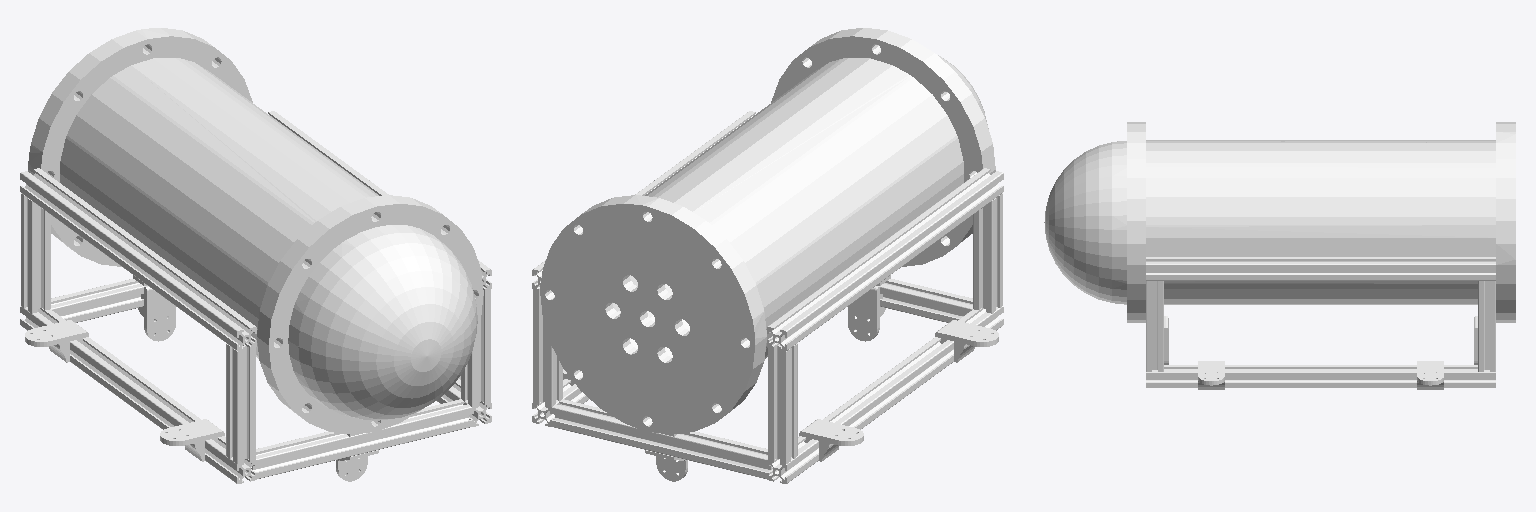
The robot description file, URDF, robot "URDF_Simple_Assembly":
<?xml version="1.0" encoding="utf-8"?>
<!-- This URDF was automatically created by SolidWorks to URDF Exporter! Originally created by [author] ([email redacted]) 
     Commit Version: 1.6.0-4-g7f85cfe  Build Version: 1.6.7995.38578
     For more information, please see http://wiki.ros.org/sw_urdf_exporter -->
<robot
  name="URDF_Simple_Assembly">
  <link
    name="base_link">
    <inertial>
      <origin
        xyz="0.26619 0.3647 0.47224"
        rpy="0 0 0" />
      <mass
        value="4.3749" />
      <inertia
        ixx="0.12768"
        ixy="2.2903E-16"
        ixz="8.8002E-10"
        iyy="0.14247"
        iyz="7.0756E-12"
        izz="0.045997" />
    </inertial>
    <visual>
      <origin
        xyz="0 0 0"
        rpy="0 0 0" />
      <geometry>
        <mesh
          filename="package://URDF_Simple_Assembly/meshes/base_link.STL" />
      </geometry>
      <material
        name="">
        <color
          rgba="1 1 1 0.35" />
      </material>
    </visual>
    <collision>
      <origin
        xyz="0 0 0"
        rpy="0 0 0" />
      <geometry>
        <mesh
          filename="package://URDF_Simple_Assembly/meshes/base_link.STL" />
      </geometry>
    </collision>
  </link>
</robot>

--- What the picture shows (computed from the rendered views, not written in the file) ---
The picture shows the robot from 3 angles, left to right: view 1: azimuth 30°, elevation 25°; view 2: azimuth 150°, elevation 25°; view 3: azimuth 270°, elevation 25°; orthographic projection.
Robot: URDF_Simple_Assembly — 1 links, 0 joints (none); root link base_link; default pose: all joints at 0.
Links seen in each view (by area): view 1: base_link; view 2: base_link; view 3: base_link.
Link boxes in pixels (bbox=[...]): base_link: bbox=[20, 28, 491, 483]; base_link: bbox=[532, 28, 1003, 483]; base_link: bbox=[1044, 122, 1515, 389].
Bounding box of the posed robot: 0.33 × 0.516 × 0.285 m (x, y, z).
1 mesh visuals loaded from 1 distinct referenced files (1 binary STL).